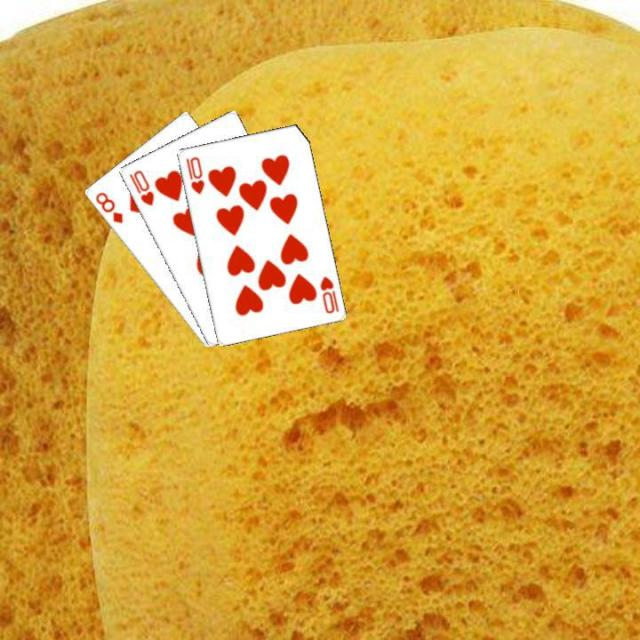10H: (126, 166, 156, 207), (316, 272, 340, 315), (182, 153, 206, 195)
8D: (90, 187, 124, 225)
